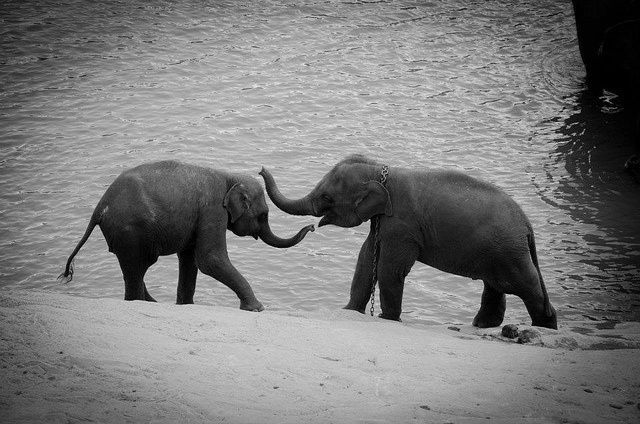elephant: (258, 154, 558, 330), (58, 158, 314, 313)
